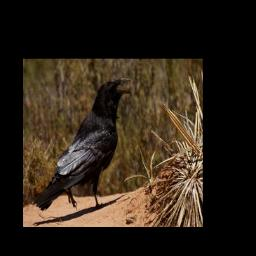Crow: (32, 78, 130, 211)
